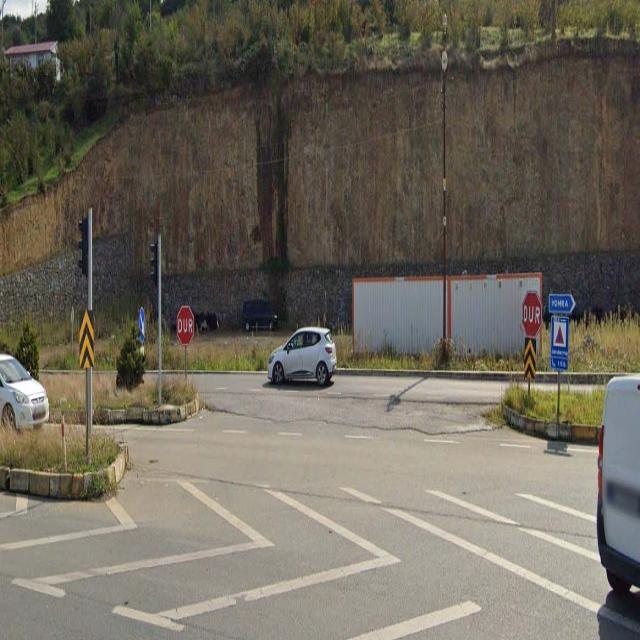dur: (522, 290, 542, 336), (176, 305, 193, 344)
